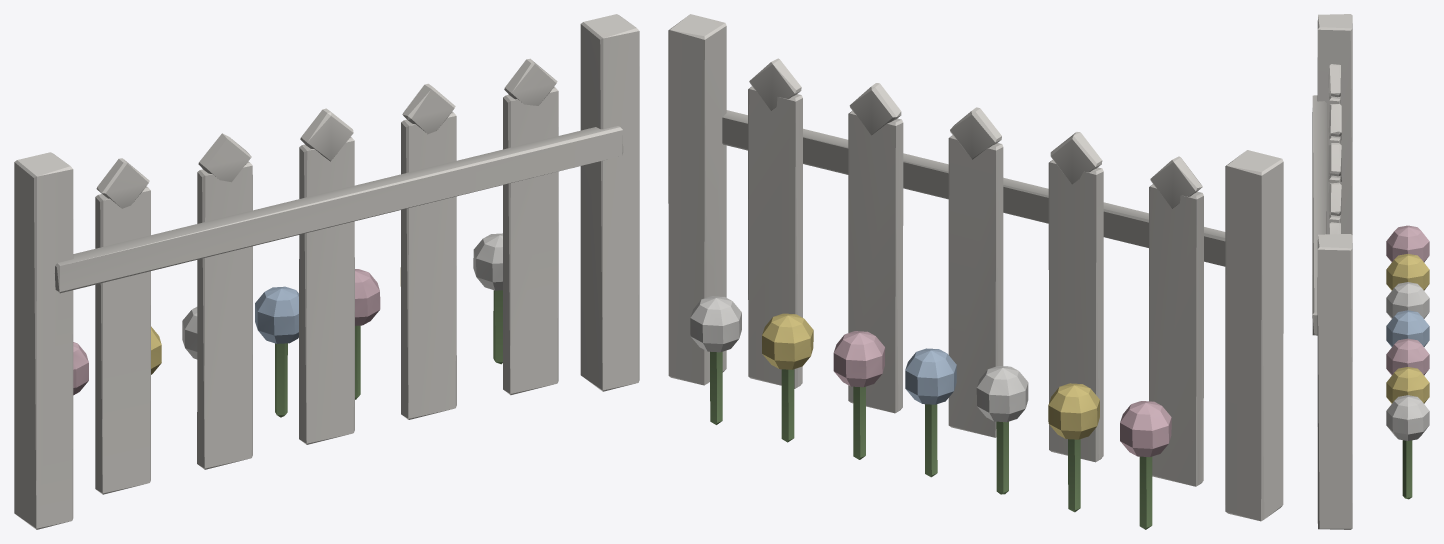
File: fence_flower_low.glb
3 renders of one model, left to right at view 1: azimuth 30°, elevation 25°; view 2: azimuth 150°, elevation 25°; view 3: azimuth 270°, elevation 25°, orthographic. The views are drawn at different scales.
Bounding box in the file's own units: 1.07 × 0.6009 × 0.2251.
